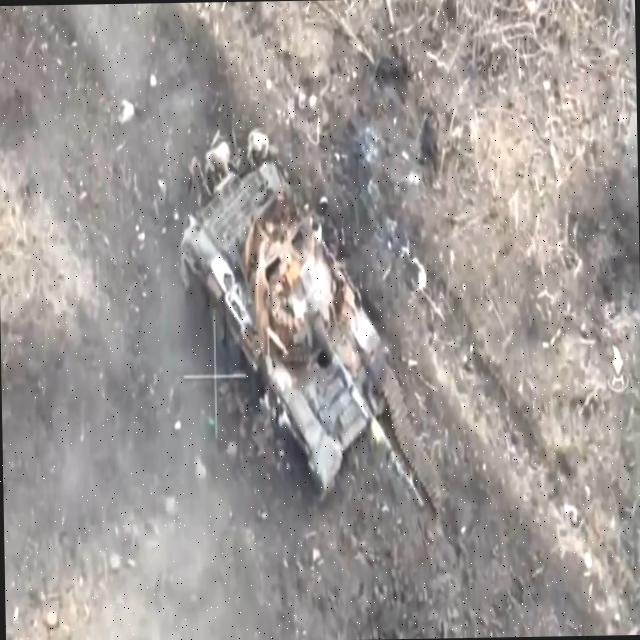Destroyed: (177, 148, 432, 534)
